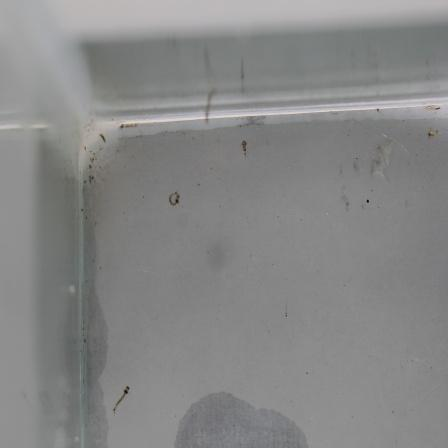Jentik-Nyamuk: (106, 385, 143, 419), (164, 189, 190, 215), (237, 136, 257, 161)
